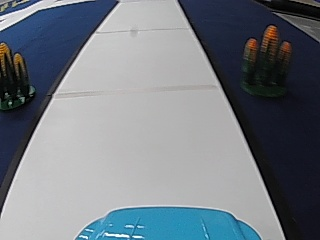corn: (240, 23, 292, 100), (0, 42, 36, 108)
